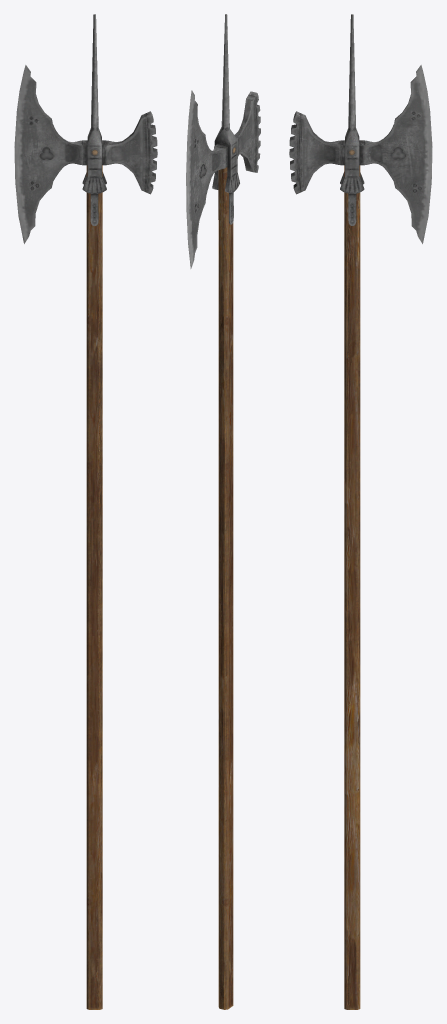
The model's file is Halberd_01.fbx.
The picture shows the model from 3 angles, left to right: view 1: azimuth 90°, elevation 25°; view 2: azimuth 150°, elevation 25°; view 3: azimuth 270°, elevation 25°; orthographic projection.
Visible parts, largest first — view 1: Halberd_01_LOD0; view 2: Halberd_01_LOD0; view 3: Halberd_01_LOD0.
Boxes of the visible parts, x1=… form: Halberd_01_LOD0: x1=14, y1=14, x2=157, y2=1009; Halberd_01_LOD0: x1=186, y1=14, x2=260, y2=1009; Halberd_01_LOD0: x1=289, y1=14, x2=432, y2=1009.
Size of what is drawn, in the model's own units: 3.36 by 199 by 25.99.
